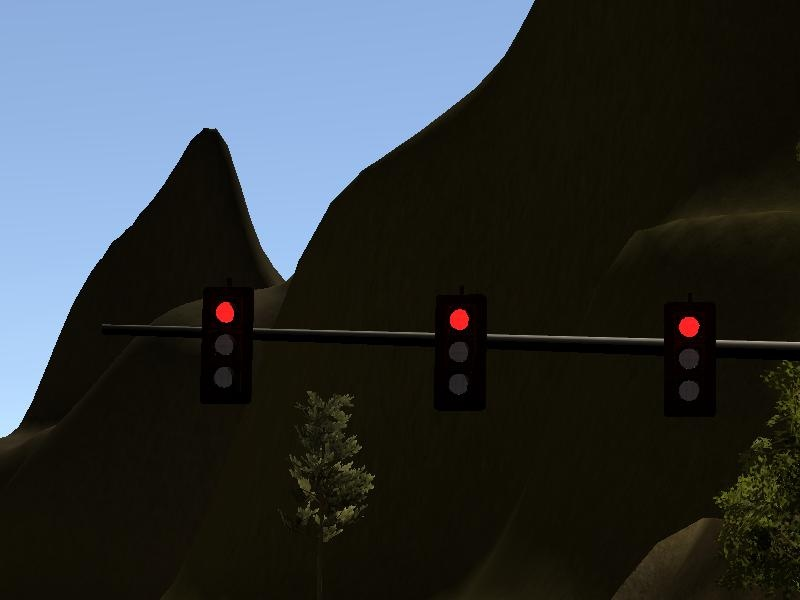red: (434, 296, 487, 414), (664, 303, 716, 419), (201, 288, 253, 404)
